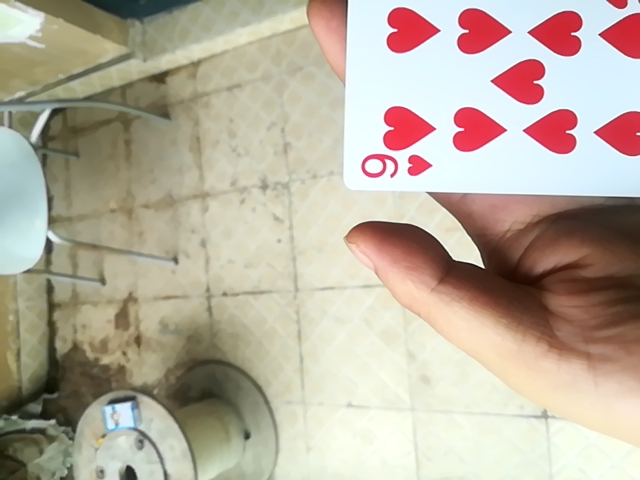hx 9: (338, 0, 637, 199)
